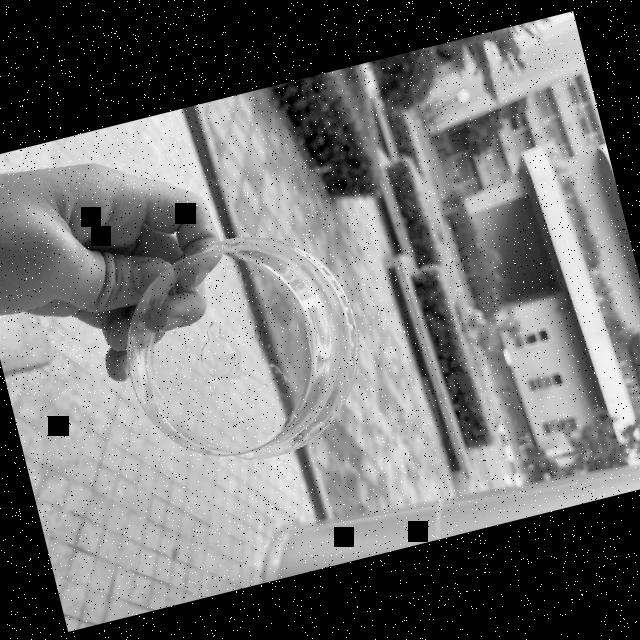plastic_cup_lid: (98, 208, 389, 488)
